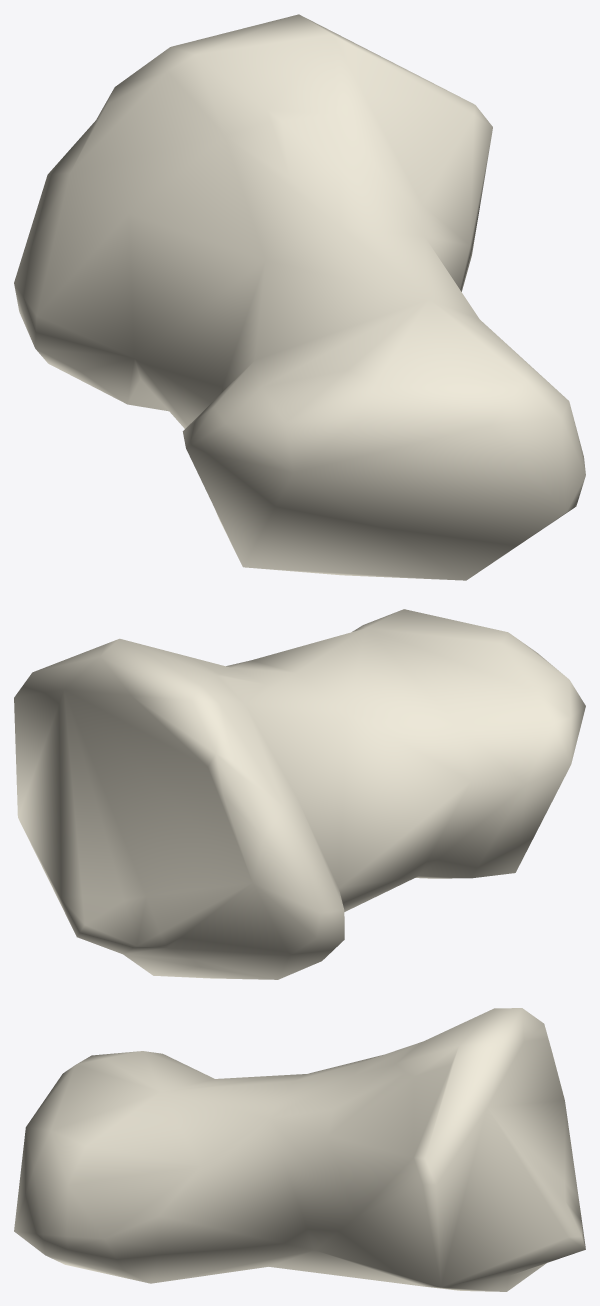
3 views of the same model, one above another, from view 1: azimuth 30°, elevation 25°; view 2: azimuth 150°, elevation 25°; view 3: azimuth 270°, elevation 25° (orthographic). The views are drawn at different scales.
Parts seen in each view (by area): view 1: ZA_f4fea5520ea8c8dd; view 2: ZA_f4fea5520ea8c8dd; view 3: ZA_f4fea5520ea8c8dd.
Part boxes in pixels (bbox=[...]): ZA_f4fea5520ea8c8dd: bbox=[14, 14, 585, 580]; ZA_f4fea5520ea8c8dd: bbox=[14, 609, 585, 979]; ZA_f4fea5520ea8c8dd: bbox=[14, 1008, 585, 1291].
Size of the model in its own units: 0.0102 by 0.00758 by 0.0137.
